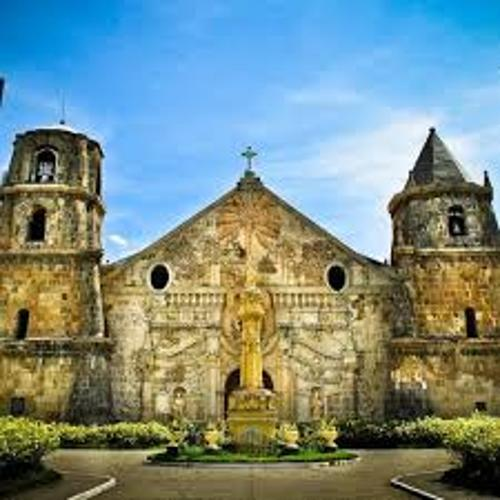Miagao Church: (3, 114, 500, 429)
